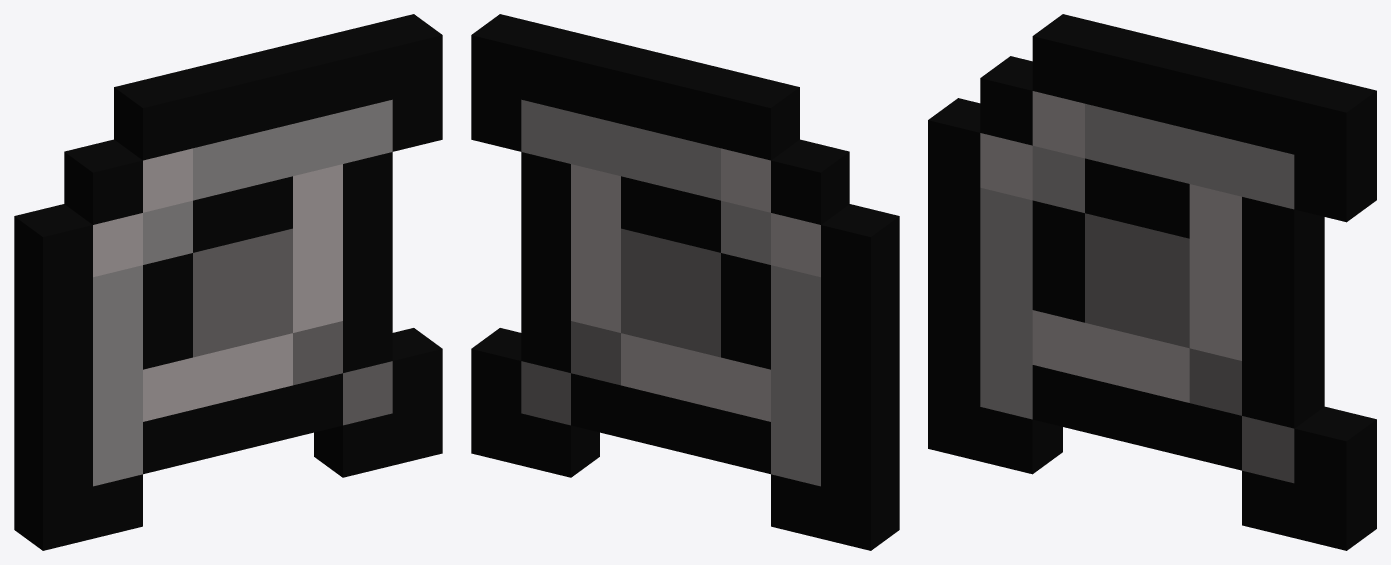
Rendered from Stone Crossbowmetacharging3.glb.
3 renders of one model, left to right at view 1: azimuth 30°, elevation 25°; view 2: azimuth 150°, elevation 25°; view 3: azimuth 330°, elevation 25°, orthographic. The views are drawn at different scales.
Visible parts, largest first — view 1: generated(Clone); view 2: generated(Clone); view 3: generated(Clone).
Part boxes in pixels (bbox=[...]): generated(Clone): bbox=[14, 14, 442, 550]; generated(Clone): bbox=[471, 14, 899, 550]; generated(Clone): bbox=[928, 14, 1376, 550].
Bounding box in the file's own units: 8 × 8 × 1.
Materials: 1 (1 with a texture image).
